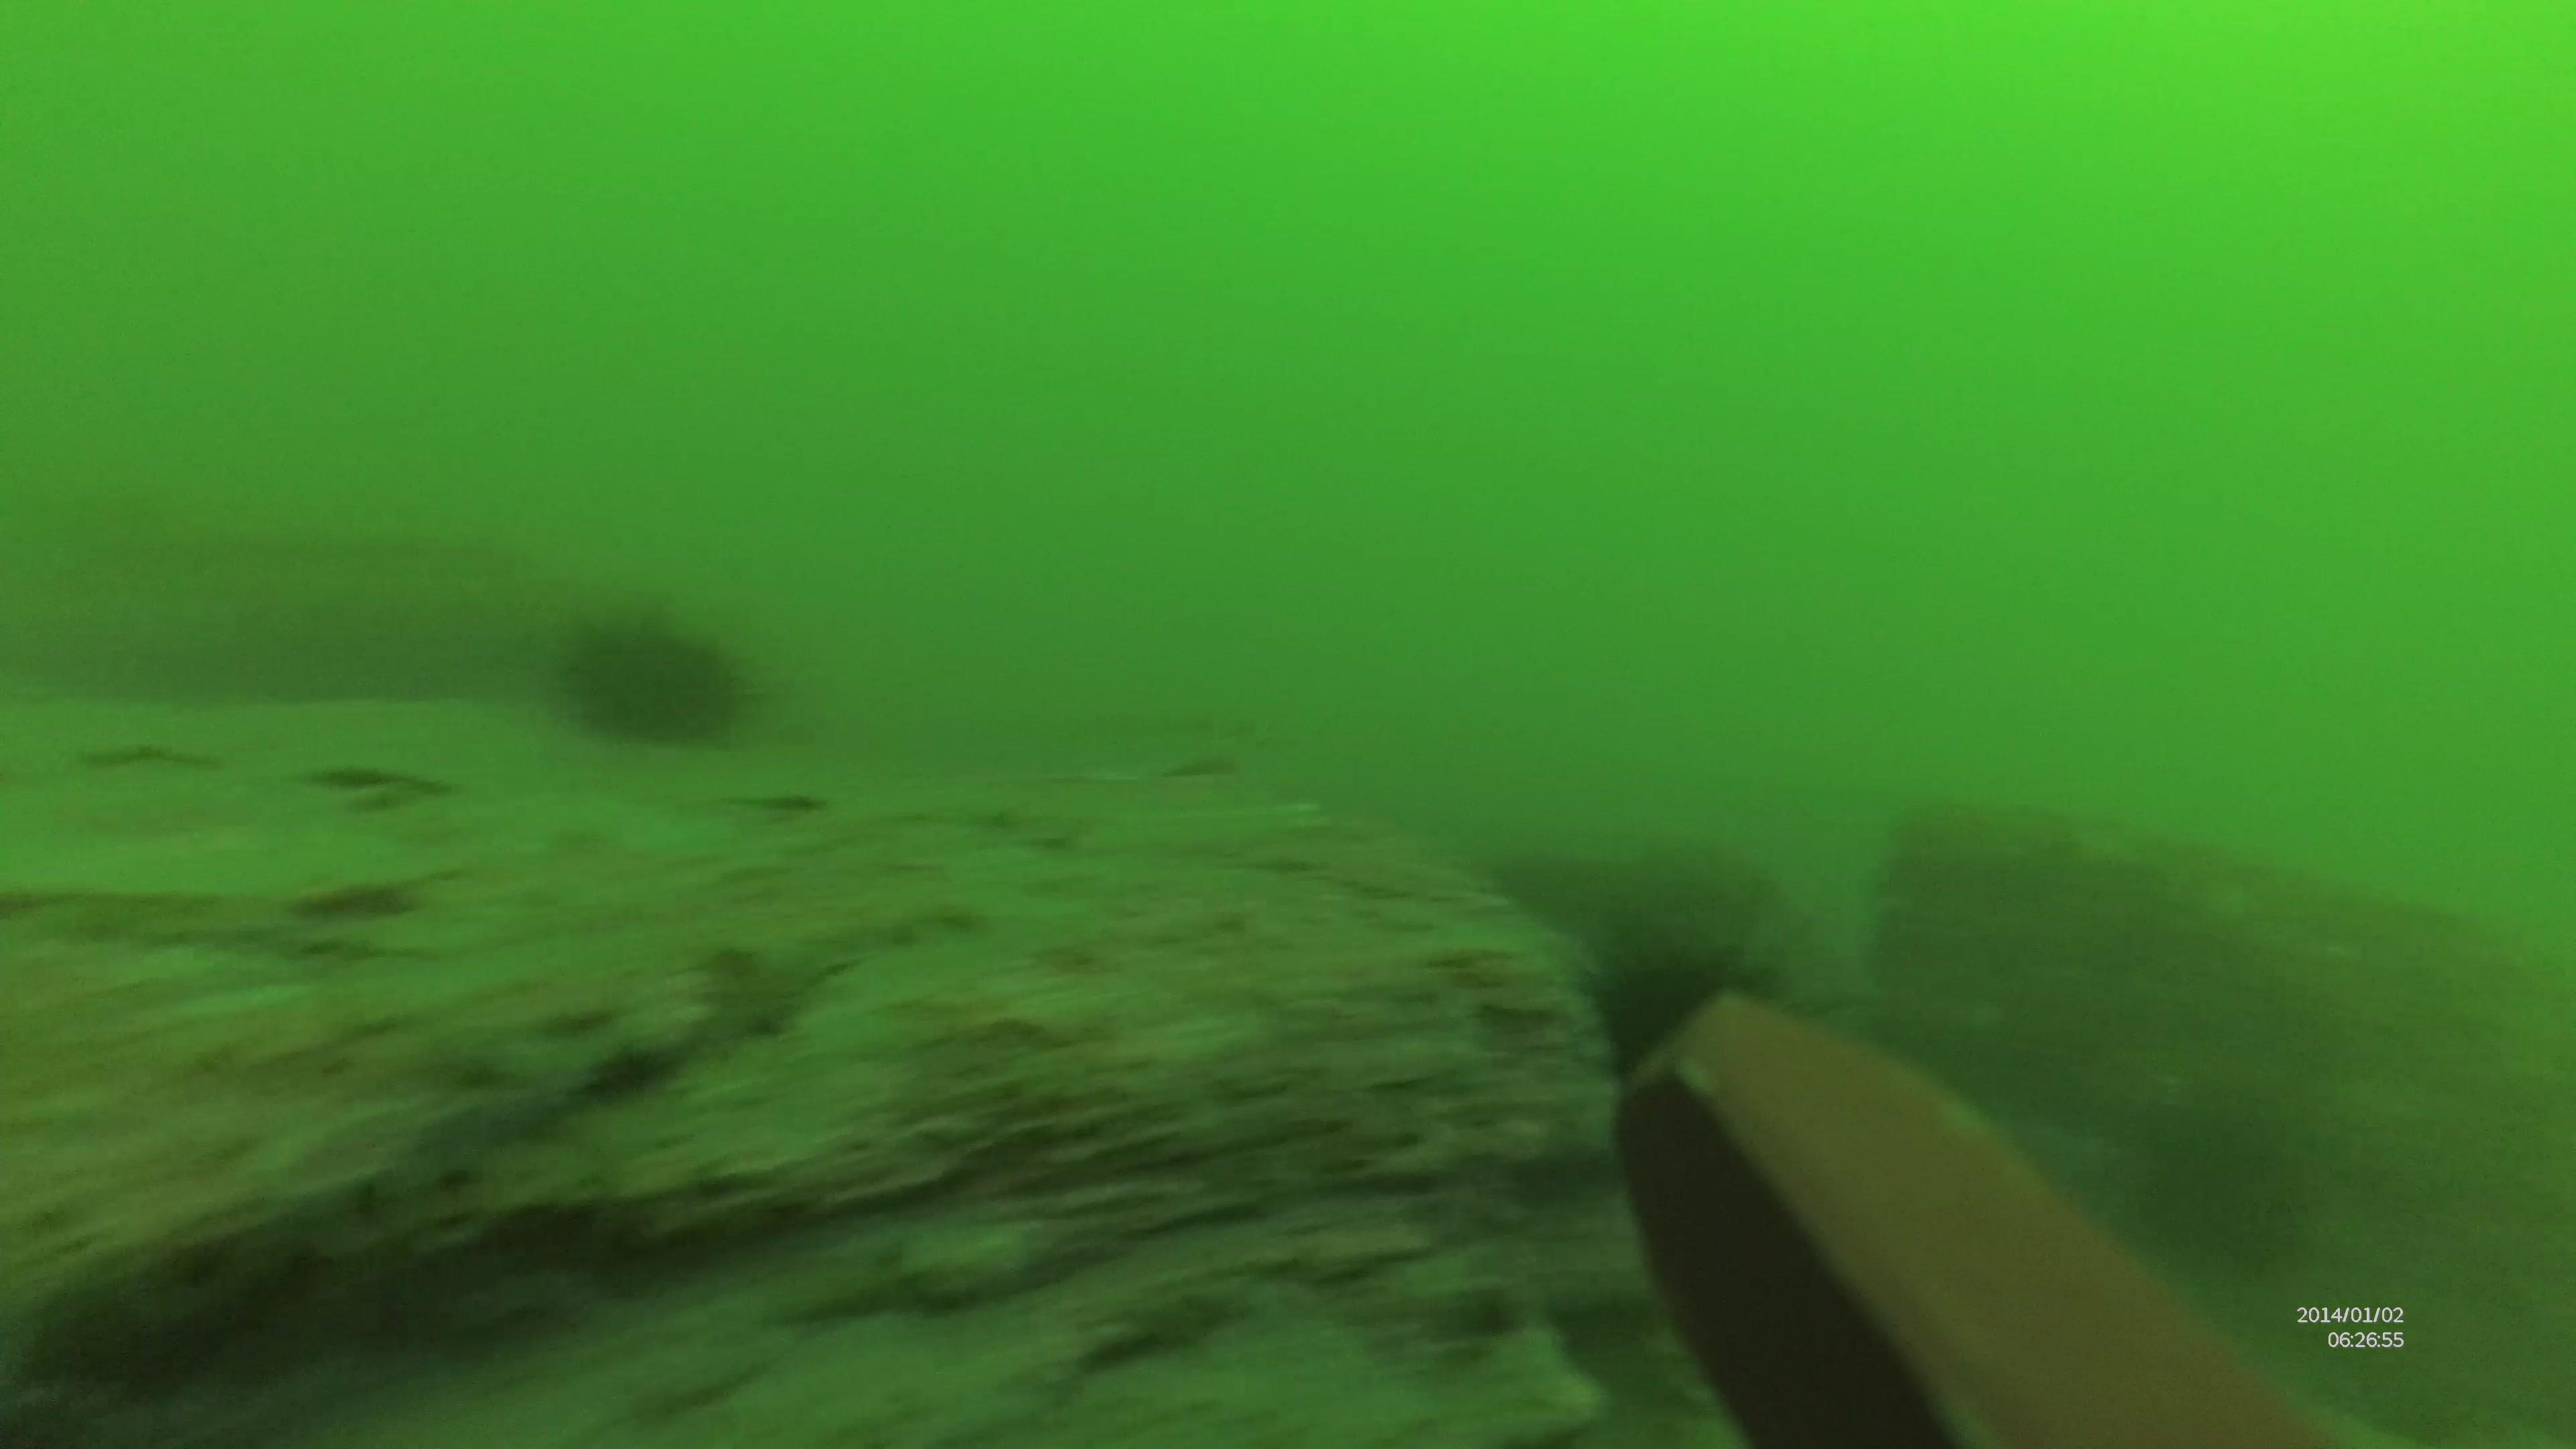echinus: (1582, 934, 1815, 1108), (545, 609, 743, 743)
